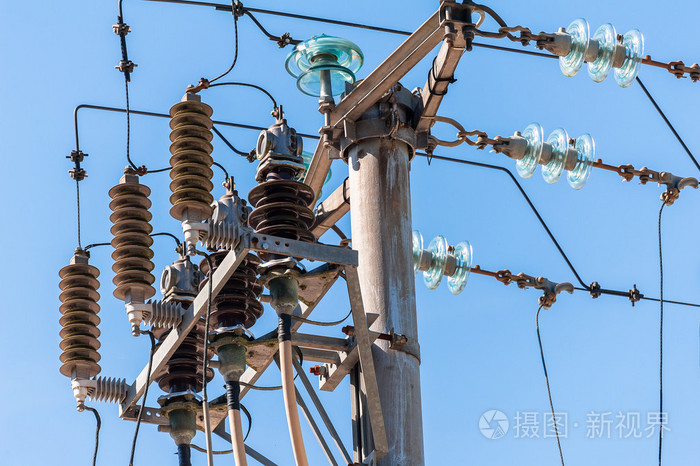insulator: (562, 19, 645, 90), (107, 182, 156, 300), (167, 98, 215, 216), (517, 122, 595, 190), (59, 264, 101, 378), (408, 231, 475, 296), (283, 39, 361, 94)
